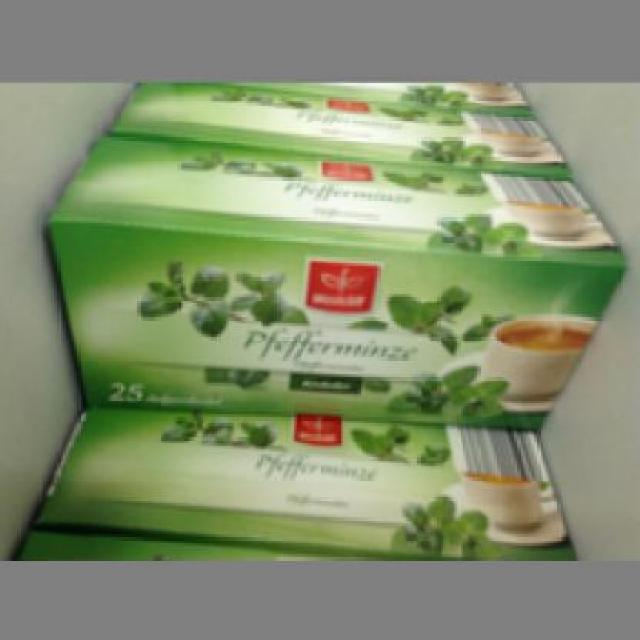Tea: (43, 130, 623, 427)
